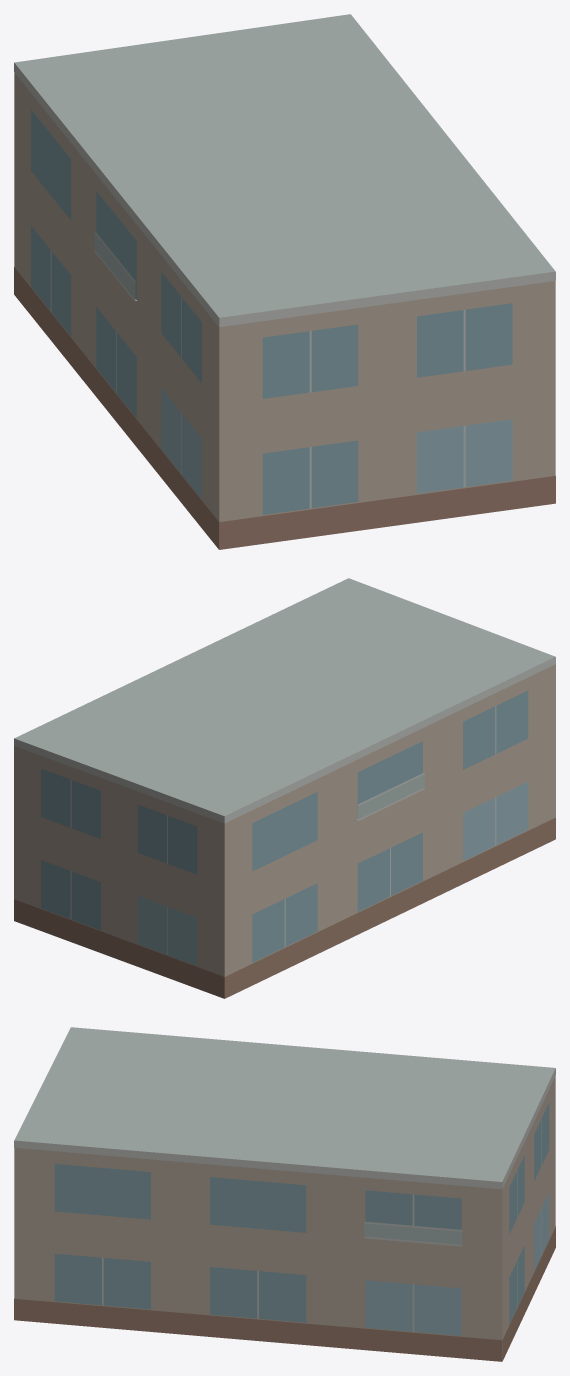
File: survey-upis-32792202.glb
3 renders of one model, top to bottom at view 1: azimuth 30°, elevation 25°; view 2: azimuth 150°, elevation 25°; view 3: azimuth 270°, elevation 25°, orthographic. The views are drawn at different scales.
Visible parts, largest first — view 1: survey-upis-32792202.tmp; view 2: survey-upis-32792202.tmp; view 3: survey-upis-32792202.tmp.
Boxes of the visible parts, x1,y1,x2,y2 form: survey-upis-32792202.tmp: [14, 14, 555, 549]; survey-upis-32792202.tmp: [14, 578, 555, 998]; survey-upis-32792202.tmp: [14, 1027, 555, 1361].
Size of the model in its own units: 11.29 by 6.1 by 16.68.
